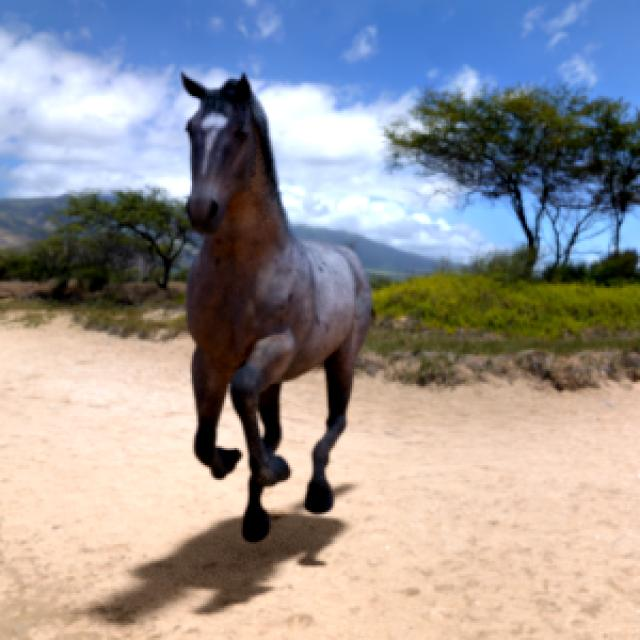horse: (183, 75, 371, 541)
